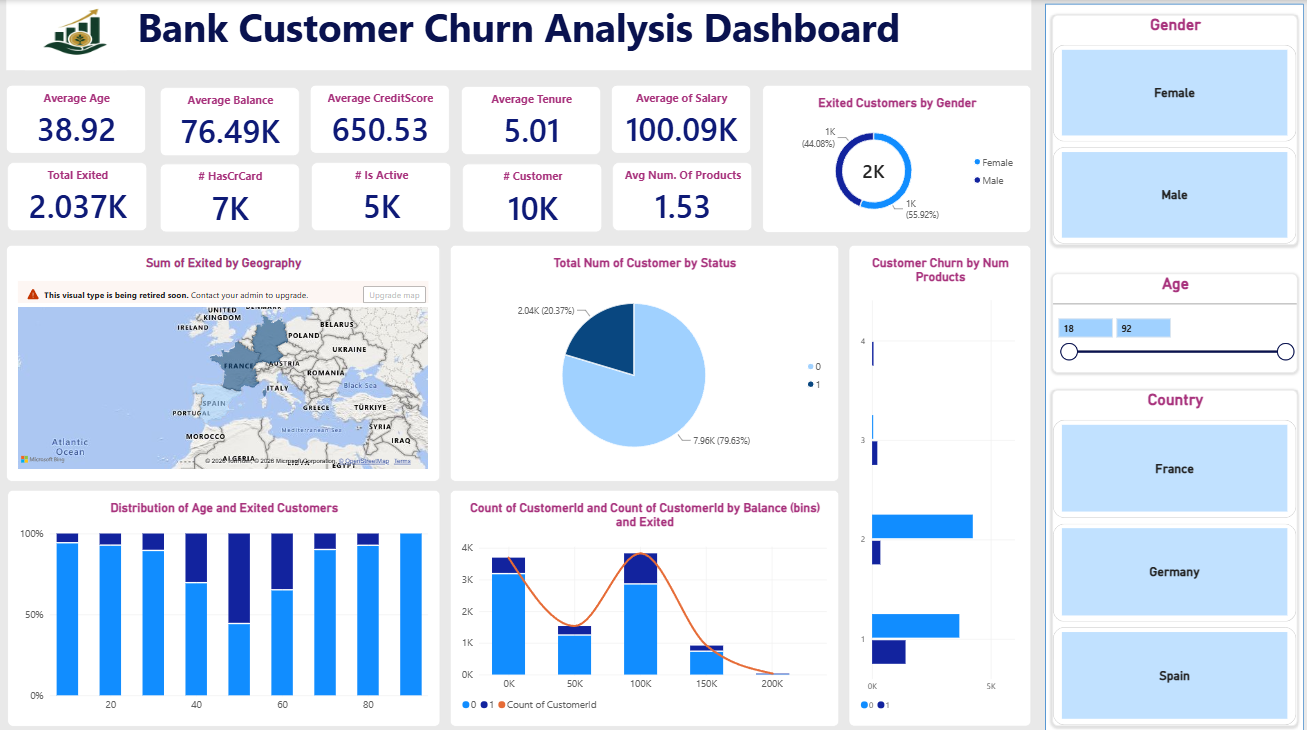

The page's visual inventory and layout, read from the dashboard file:
{"tool":"powerbi","page":{"name":"Page 1","canvas":[1920,1080],"ordinal":0},"visuals":[{"type":"shape","box":[1527.4,5.4,374.6,1067.7],"z":0},{"type":"textbox","box":[23.5,0,1483.9,101.3],"z":1000},{"type":"image","box":[50.7,0,146.6,101.3],"z":2000},{"type":"cardVisual","fields":{"Data":["Avg(Churn_Modelling.Age)"]},"box":[23.5,123.1,202.7,99.5],"z":3000},{"type":"cardVisual","fields":{"Data":["Avg(Churn_Modelling.Balance)"]},"box":[246.1,126.7,202.7,99.5],"z":4000},{"type":"cardVisual","fields":{"Data":["Avg(Churn_Modelling.CreditScore)"]},"box":[463.3,123.1,202.7,99.5],"z":5000},{"type":"cardVisual","fields":{"Data":["Avg(Churn_Modelling.Tenure)"]},"box":[682.2,124.9,202.7,99.5],"z":6000},{"type":"cardVisual","fields":{"Data":["Avg(Churn_Modelling.EstimatedSalary)"]},"box":[899.4,123.1,202.7,99.5],"z":7000},{"type":"cardVisual","fields":{"Data":["Sum(Churn_Modelling.Exited)"]},"box":[24.8,234.4,202.7,99.5],"z":8000},{"type":"cardVisual","fields":{"Data":["Sum(Churn_Modelling.HasCrCard)"]},"box":[245.6,236.2,202.7,99.5],"z":9000},{"type":"cardVisual","fields":{"Data":["Sum(Churn_Modelling.IsActiveMember)"]},"box":[464.6,234.4,202.7,99.5],"z":10000},{"type":"cardVisual","fields":{"Data":["CountNonNull(Churn_Modelling.CustomerId)"]},"box":[683.6,236.2,202.7,99.5],"z":11000},{"type":"cardVisual","fields":{"Data":["Avg(Churn_Modelling.NumOfProducts)"]},"box":[900.7,234.4,202.7,99.5],"z":12000},{"type":"advancedSlicerVisual","title":"Country","fields":{"Values":["Churn_Modelling.Geography"]},"box":[1538.2,564.6,354.7,486.8],"z":13000},{"type":"advancedSlicerVisual","title":"Gender","fields":{"Values":["Churn_Modelling.Gender"]},"box":[1538.2,21.7,354.7,333],"z":14000},{"type":"slicer","title":"Age","fields":{"Values":["Churn_Modelling.Age"]},"box":[1538.2,396.3,354.7,143],"z":15000},{"type":"donutChart","title":"Exited Customers by Gender","fields":{"Category":["Churn_Modelling.Gender"],"Y":["Sum(Churn_Modelling.Exited)"]},"box":[1118.4,123.1,389.1,213.5],"z":16000},{"type":"filledMap","fields":{"Category":["Churn_Modelling.Geography"]},"box":[23.5,354.7,628,342],"z":17000},{"type":"hundredPercentStackedColumnChart","title":"Distribution of Age and Exited Customers","fields":{"Category":["Churn_Modelling.Age (bins)"],"Series":["Churn_Modelling.Exited"],"Y":["CountNonNull(Churn_Modelling.CustomerId)"]},"box":[25.3,709.4,626.1,342],"z":18000},{"type":"clusteredBarChart","title":"Customer Churn by Num Products","fields":{"Category":["Churn_Modelling.NumOfProducts"],"Series":["Churn_Modelling.Exited"],"Y":["CountNonNull(Churn_Modelling.CustomerId)"]},"box":[1243.2,354.7,264.2,696.7],"z":18001},{"type":"pieChart","title":"Total Num of Customer by Status","fields":{"Category":["Churn_Modelling.Exited"],"Y":["CountNonNull(Churn_Modelling.CustomerId)"]},"box":[666,354.7,562.8,342],"z":18002},{"type":"lineStackedColumnComboChart","fields":{"Category":["Churn_Modelling.Balance (bins)"],"Series":["Churn_Modelling.Exited"],"Y":["CountNonNull(Churn_Modelling.CustomerId)"],"Y2":["CountNonNull(Churn_Modelling.CustomerId)"]},"box":[666,709,563,342],"z":18003}]}

Visuals, with their boxes in screenshot pixels (x1, y1, x2, y2), scaled from the page's 1920x1080 canvas onto the 1307x730 screenshot:
shape: pyautogui.locateOnScreen(1040, 4, 1295, 725)
textbox: pyautogui.locateOnScreen(16, 0, 1026, 68)
image: pyautogui.locateOnScreen(35, 0, 134, 68)
cardVisual - Avg(Churn_Modelling.Age): pyautogui.locateOnScreen(16, 83, 154, 150)
cardVisual - Avg(Churn_Modelling.Balance): pyautogui.locateOnScreen(168, 86, 306, 153)
cardVisual - Avg(Churn_Modelling.CreditScore): pyautogui.locateOnScreen(315, 83, 453, 150)
cardVisual - Avg(Churn_Modelling.Tenure): pyautogui.locateOnScreen(464, 84, 602, 152)
cardVisual - Avg(Churn_Modelling.EstimatedSalary): pyautogui.locateOnScreen(612, 83, 750, 150)
cardVisual - Sum(Churn_Modelling.Exited): pyautogui.locateOnScreen(17, 158, 155, 226)
cardVisual - Sum(Churn_Modelling.HasCrCard): pyautogui.locateOnScreen(167, 160, 305, 227)
cardVisual - Sum(Churn_Modelling.IsActiveMember): pyautogui.locateOnScreen(316, 158, 454, 226)
cardVisual - CountNonNull(Churn_Modelling.CustomerId): pyautogui.locateOnScreen(465, 160, 603, 227)
cardVisual - Avg(Churn_Modelling.NumOfProducts): pyautogui.locateOnScreen(613, 158, 751, 226)
"Country" advancedSlicerVisual: pyautogui.locateOnScreen(1047, 382, 1289, 711)
"Gender" advancedSlicerVisual: pyautogui.locateOnScreen(1047, 15, 1289, 240)
"Age" slicer: pyautogui.locateOnScreen(1047, 268, 1289, 365)
"Exited Customers by Gender" donutChart: pyautogui.locateOnScreen(761, 83, 1026, 228)
filledMap - Churn_Modelling.Geography: pyautogui.locateOnScreen(16, 240, 443, 471)
"Distribution of Age and Exited Customers" hundredPercentStackedColumnChart: pyautogui.locateOnScreen(17, 480, 443, 711)
"Customer Churn by Num Products" clusteredBarChart: pyautogui.locateOnScreen(846, 240, 1026, 711)
"Total Num of Customer by Status" pieChart: pyautogui.locateOnScreen(453, 240, 836, 471)
lineStackedColumnComboChart - Churn_Modelling.Balance (bins) x Churn_Modelling.Exited: pyautogui.locateOnScreen(453, 479, 837, 710)
